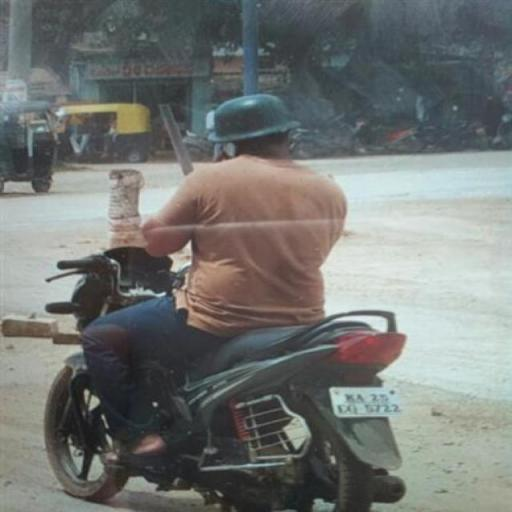using mobile: (204, 142, 243, 158)
